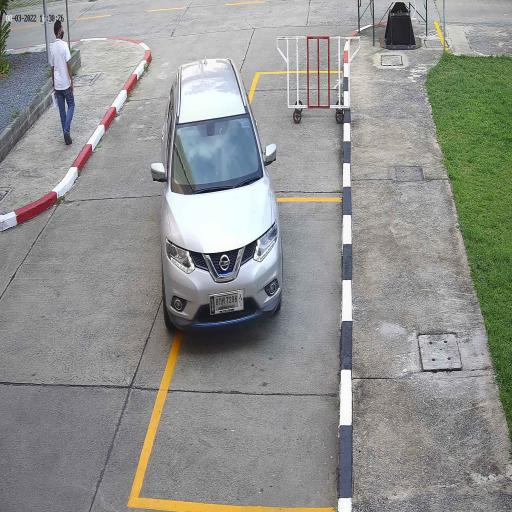car: (163, 60, 282, 332)
